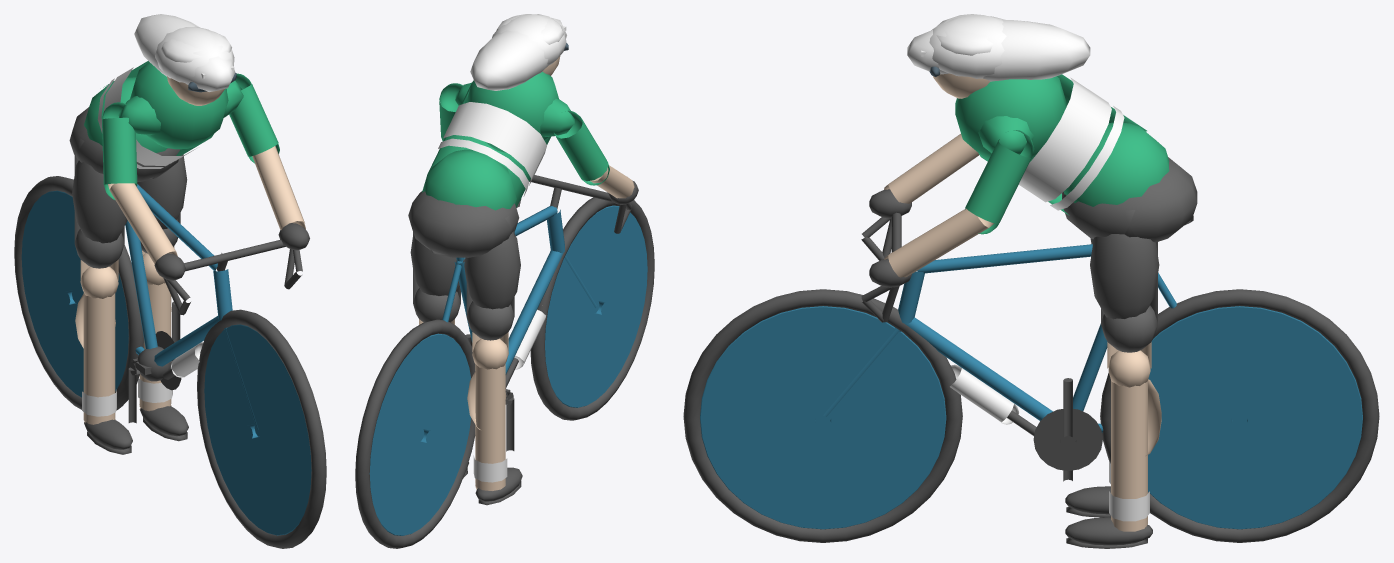
The model's file is cyclist.glb.
The picture shows the model from 3 angles, left to right: view 1: azimuth 30°, elevation 25°; view 2: azimuth 150°, elevation 25°; view 3: azimuth 270°, elevation 25°; orthographic projection. The views are drawn at different scales.
Parts seen in each view (by area): view 1: wheel_front_disc, arms, wheel_rear_disc, frame, torso, wheel_front, shin_right, thigh_right, wheel_rear, shin_left, helmet_aero, thigh_left (+7 smaller); view 2: wheel_rear_disc, wheel_front_disc, torso, wheel_rear, frame, thigh_right, shin_right, hips, wheel_front, arms, helmet_aero, thigh_left (+5 smaller); view 3: wheel_front_disc, wheel_rear_disc, wheel_front, torso, frame, arms, wheel_rear, thigh_left, shin_left, hips, helmet_aero, jersey_band (+8 smaller).
Boxes of the visible parts, bbox=[...] form: wheel_front_disc: bbox=[204, 325, 311, 535]; arms: bbox=[102, 73, 309, 280]; wheel_rear_disc: bbox=[21, 191, 128, 397]; frame: bbox=[125, 176, 302, 430]; torso: bbox=[84, 61, 243, 155]; wheel_front: bbox=[197, 309, 326, 548]; shin_right: bbox=[75, 292, 132, 454]; thigh_right: bbox=[72, 137, 127, 298]; wheel_rear: bbox=[14, 176, 143, 410]; shin_left: bbox=[138, 283, 188, 441]; helmet_aero: bbox=[134, 14, 235, 91]; thigh_left: bbox=[137, 154, 187, 285]; wheel_rear_disc: bbox=[369, 334, 470, 535]; wheel_front_disc: bbox=[545, 206, 647, 407]; torso: bbox=[422, 71, 574, 210]; wheel_rear: bbox=[355, 319, 475, 548]; frame: bbox=[430, 175, 631, 388]; thigh_right: bbox=[464, 215, 520, 369]; shin_right: bbox=[467, 364, 522, 505]; hips: bbox=[408, 191, 519, 257]; wheel_front: bbox=[530, 192, 654, 420]; arms: bbox=[439, 83, 638, 204]; helmet_aero: bbox=[470, 18, 566, 90]; thigh_left: bbox=[410, 232, 464, 324]; wheel_front_disc: bbox=[700, 307, 945, 529]; wheel_rear_disc: bbox=[1148, 307, 1362, 529]; wheel_front: bbox=[683, 289, 962, 542]; torso: bbox=[955, 74, 1169, 215]; frame: bbox=[823, 212, 1193, 435]; arms: bbox=[869, 130, 1034, 287]; wheel_rear: bbox=[1100, 289, 1379, 542]; thigh_left: bbox=[1090, 210, 1159, 387]; shin_left: bbox=[1065, 379, 1161, 548]; hips: bbox=[1062, 157, 1197, 242]; helmet_aero: bbox=[907, 19, 1090, 81]; jersey_band: bbox=[1019, 79, 1111, 202].
Bounding box in the file's own units: 0.554 × 1.41 × 1.7.
